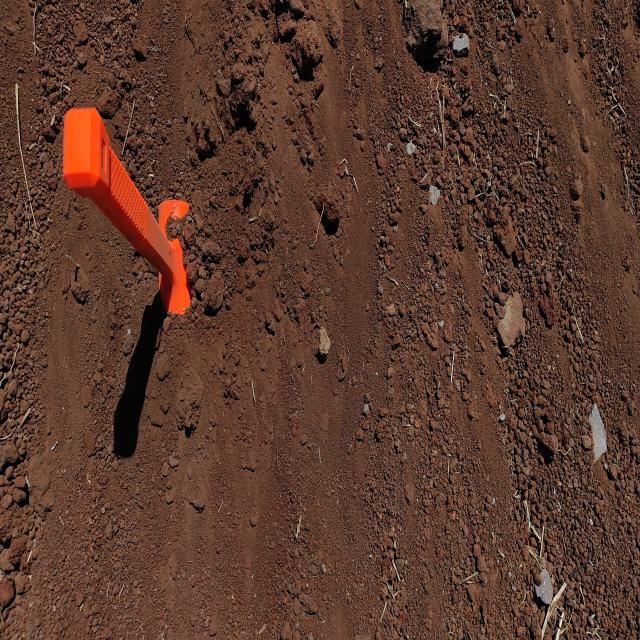Orange_hammer: (62, 105, 192, 318)
